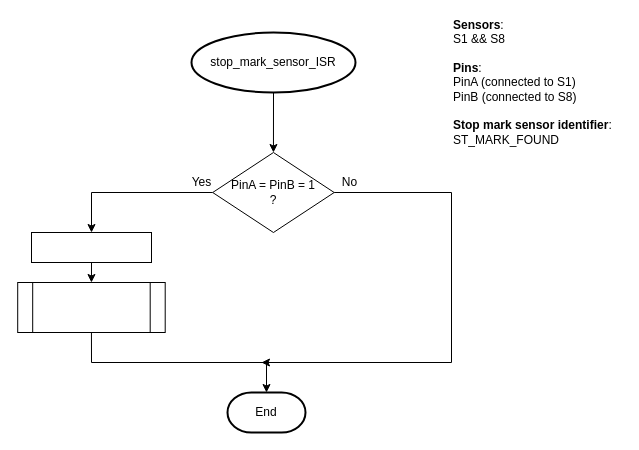
The diagram is 639 pixels wide and 450 high, and some of its shapes have lost their labels. Here are the shapes that lost their labels. From the top down, the centre of each, then its label:
the point at 91,247: nstate <- S_WAIT
the point at 91,307: com_send ( ST_MARK_FOUND )
